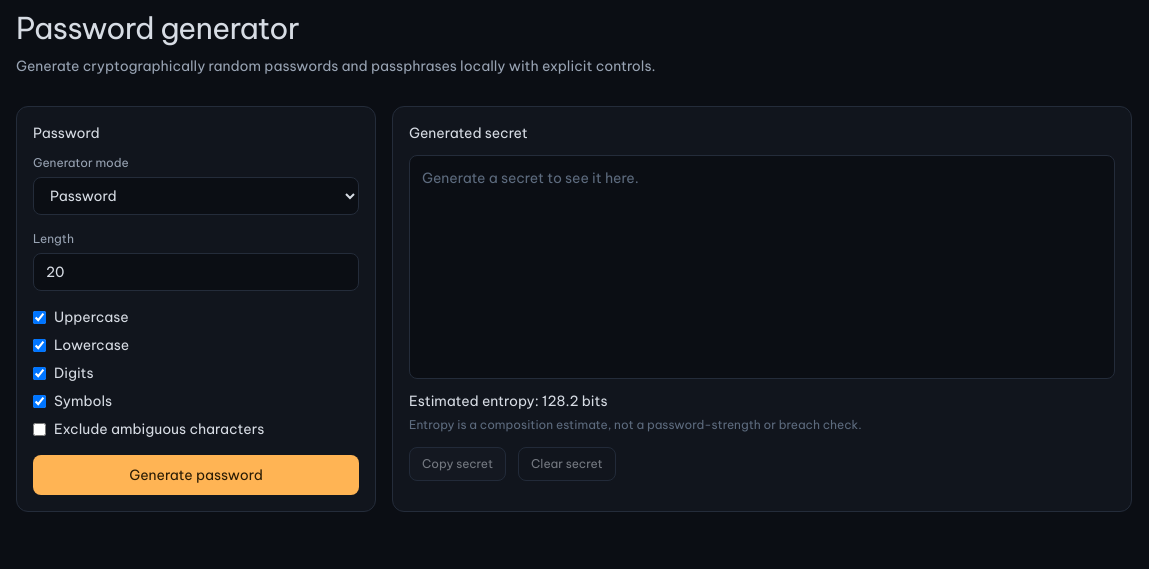
Password Generator tool › defaults passphrases to the six-word EFF recommendation
The width and height of the screenshot is (1149, 569).
Select "Passphrase" in the dropdown labelled "Generator mode" at (196, 196), box x1=33 y1=177 x2=359 y2=215
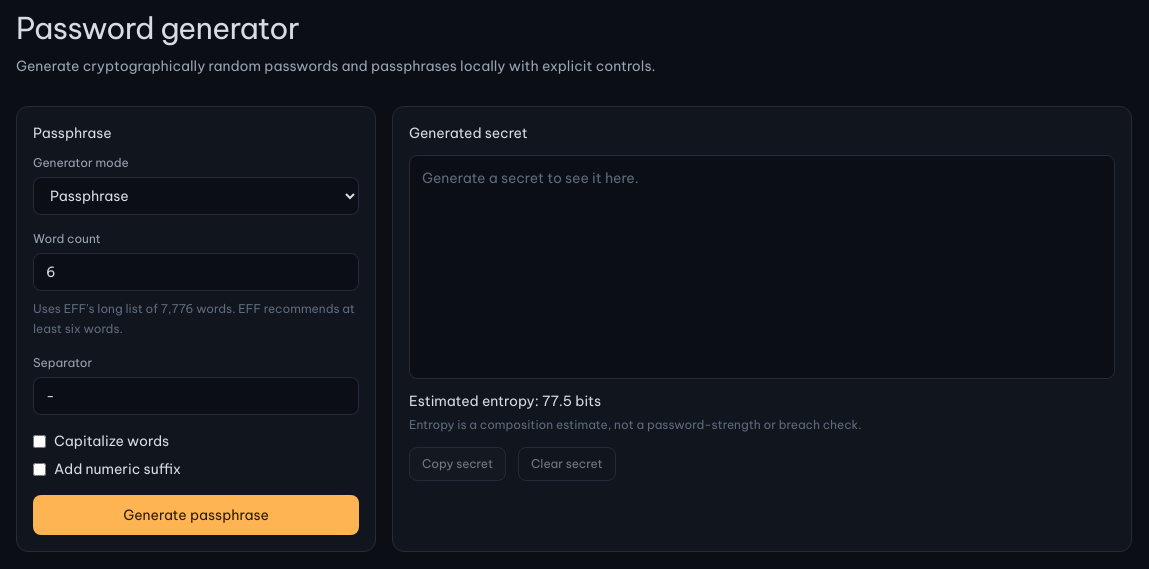
Expected: the number field labelled "Word count" holds "6", x1=33 y1=253 x2=359 y2=291
Expected: the text "77.5 bits" is shown, x1=542 y1=392 x2=601 y2=410
